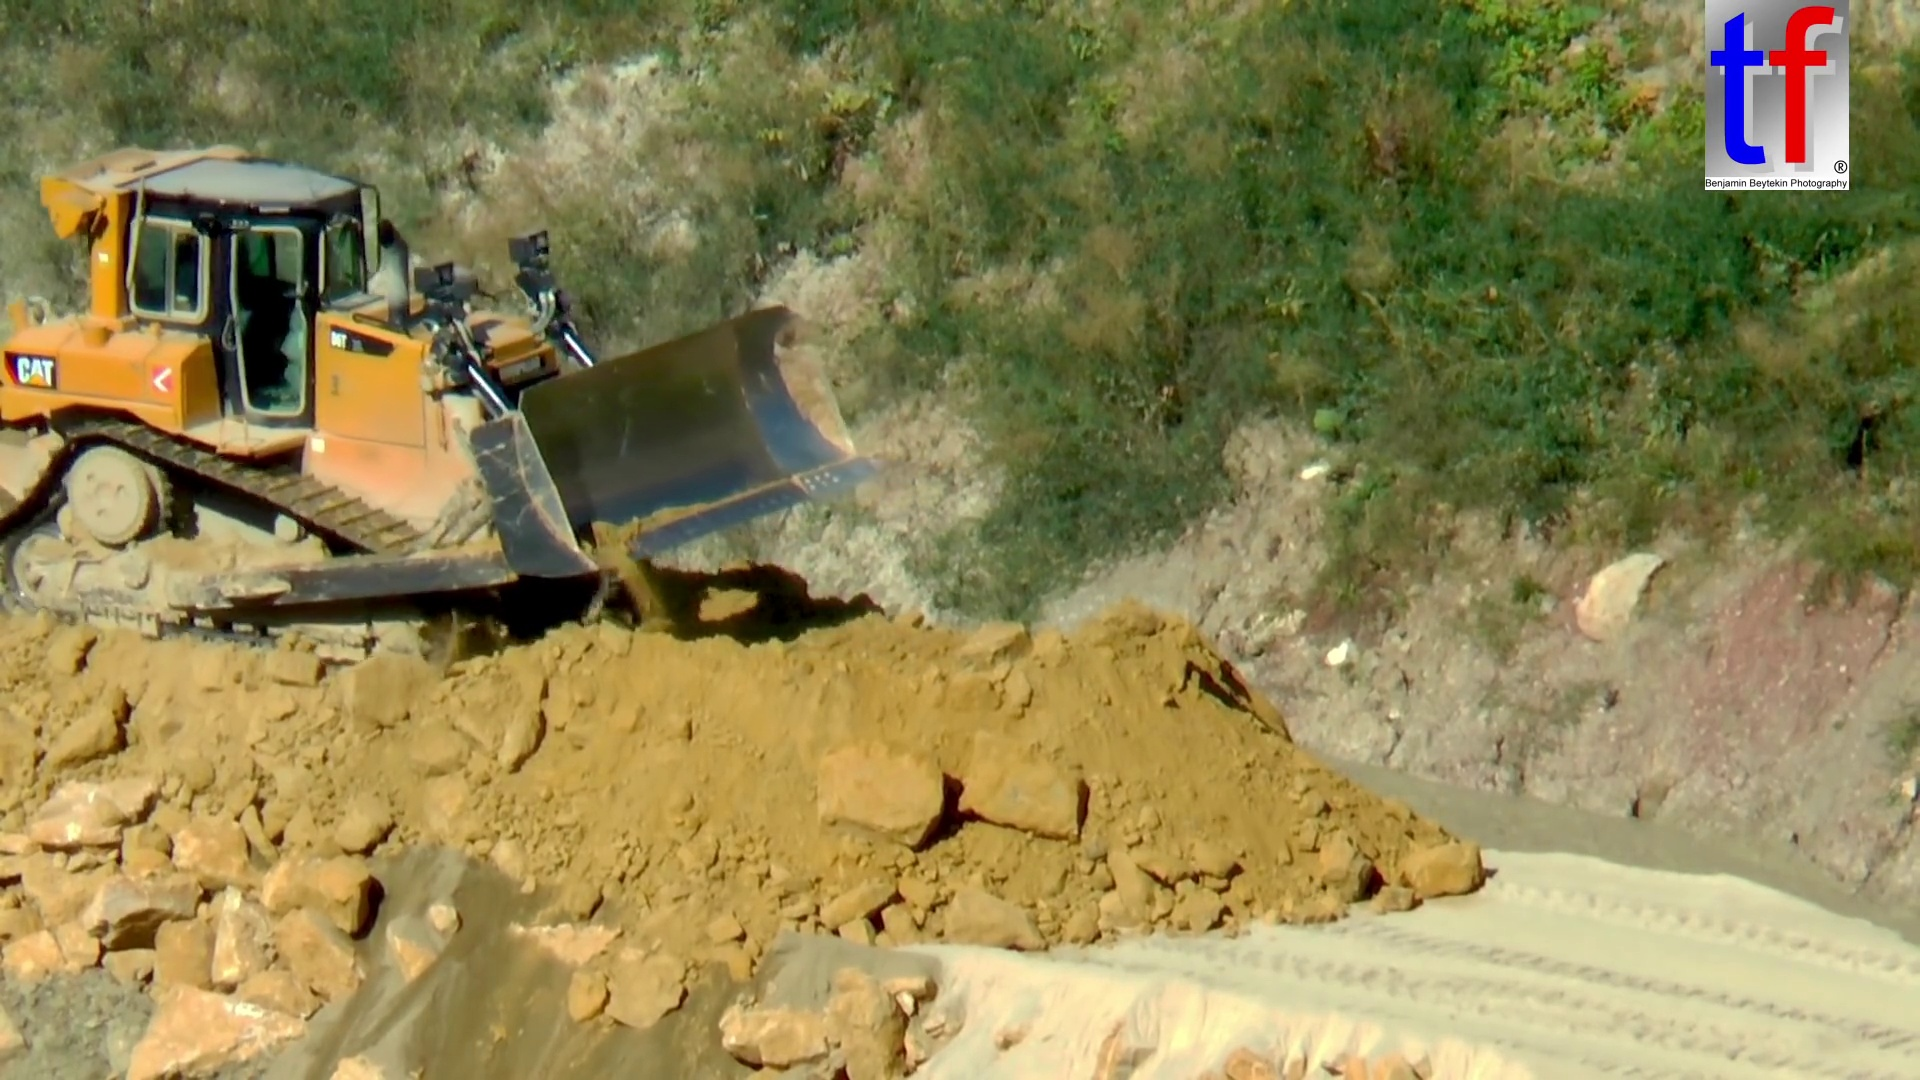bulldozer: (7, 142, 880, 665)
